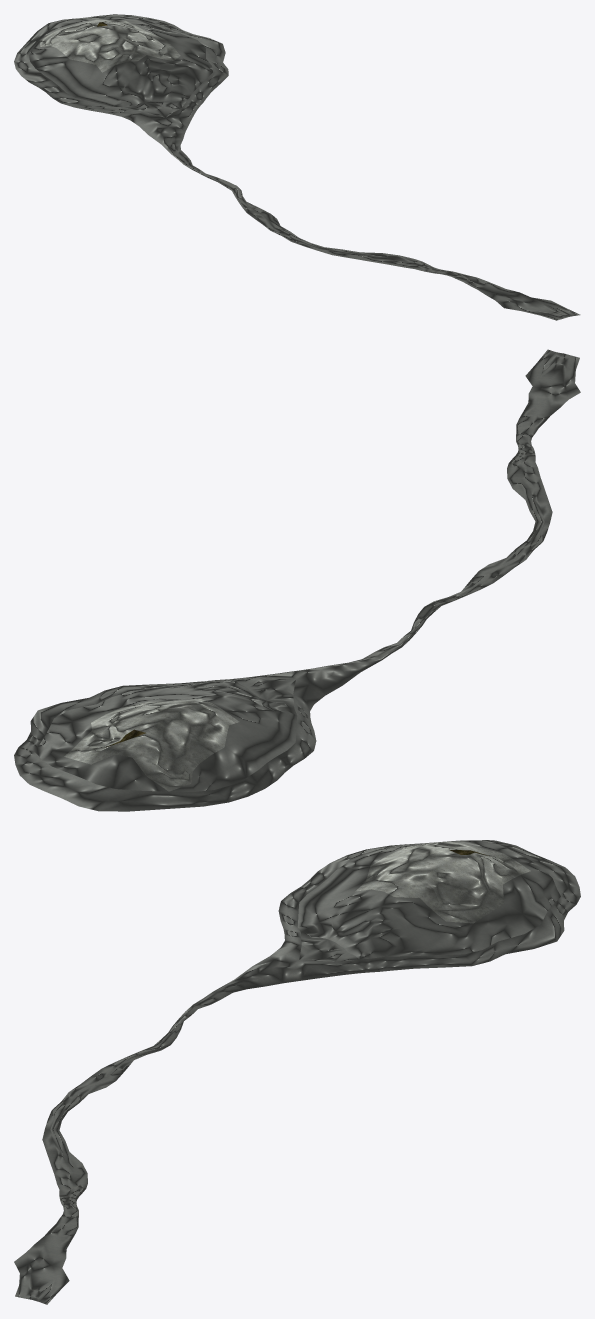
3 views of the same model, one above another, from view 1: azimuth 30°, elevation 25°; view 2: azimuth 150°, elevation 25°; view 3: azimuth 330°, elevation 25° (orthographic). The views are drawn at different scales.
Parts seen in each view (by area): view 1: mesh4, mesh1, mesh0, mesh3; view 2: mesh4, mesh1, mesh3, mesh0; view 3: mesh4, mesh1, mesh0, mesh3.
Part boxes in pixels (<box>): mesh4: <box>14,14,580,320</box>; mesh1: <box>29,17,212,117</box>; mesh0: <box>51,21,167,60</box>; mesh3: <box>39,19,180,72</box>; mesh4: <box>14,349,580,811</box>; mesh1: <box>34,678,297,791</box>; mesh3: <box>64,699,239,791</box>; mesh0: <box>81,701,220,775</box>; mesh4: <box>14,840,580,1304</box>; mesh1: <box>297,840,560,961</box>; mesh0: <box>374,844,513,907</box>; mesh3: <box>355,841,530,923</box>.
Bounding box in the file's own units: 22.16 × 3.26 × 89.51.
